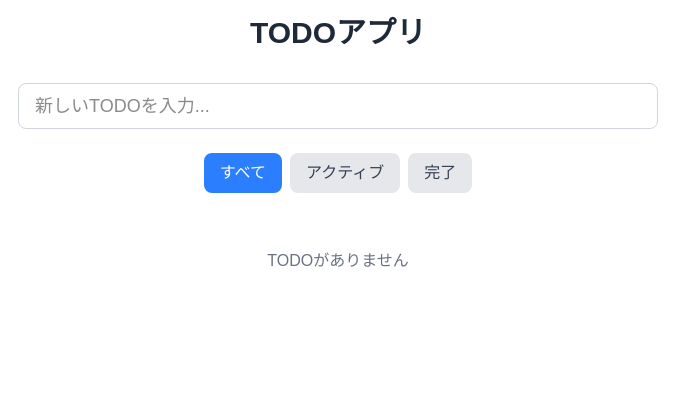
Test case: TodoApp 統合テスト › 基本的な操作フロー › TODOの追加、編集、削除が正しく動作する
Type "最初のタスク" into the field with placeholder "新しいTODOを入力...".
click(338, 106); type("最初のタスク")  # box top-left (18, 83), bottom-right (658, 129)
Then press Enter
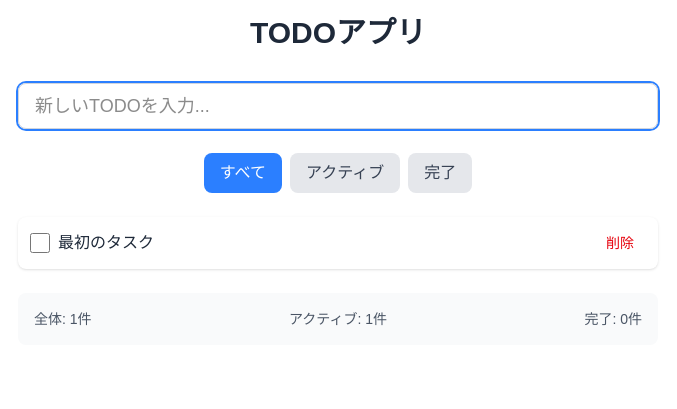
Result: the text "最初のタスク" is shown at top-left (58, 234), bottom-right (154, 251)
Type "2番目のタスク" into the field with placeholder "新しいTODOを入力...".
click(338, 106); type("2番目のタスク")  # box top-left (18, 83), bottom-right (658, 129)
Then press Enter
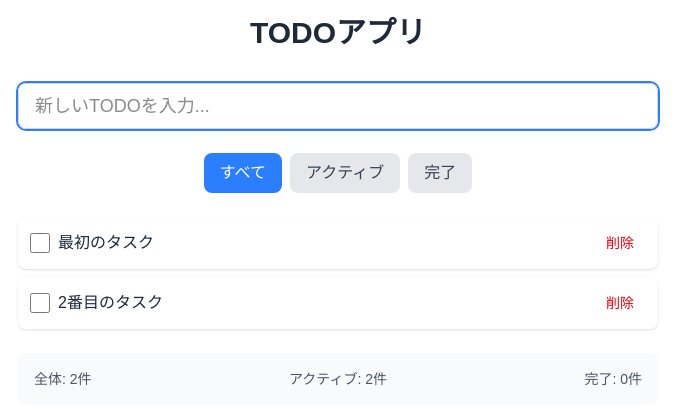
Result: the text "2番目のタスク" is shown at top-left (58, 294), bottom-right (163, 311)
Double-click the text "最初のタスク".
double_click(106, 242)  # box top-left (58, 234), bottom-right (154, 251)
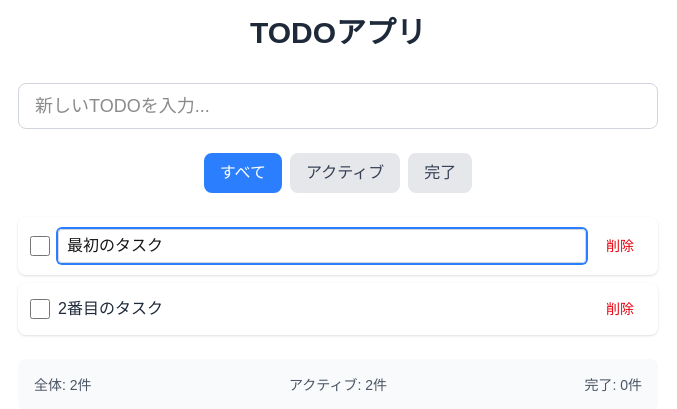
Replace the text in the field showing "最初のタスク" with "編集されたタスク" at (322, 246), box top-left (58, 229), bottom-right (586, 263)
Then press Enter
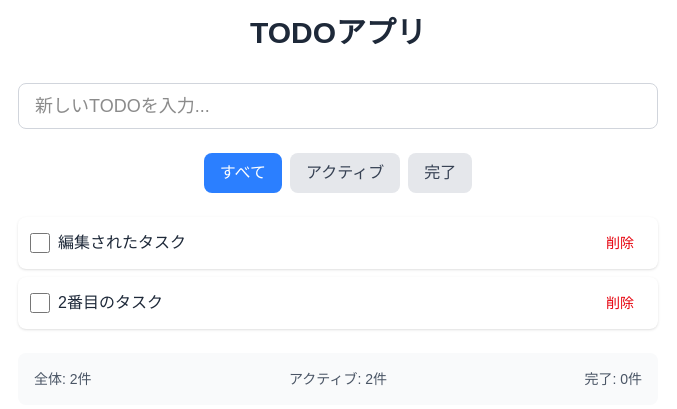
Expected: the text "最初のタスク" is not shown
Result: the text "編集されたタスク" is shown at top-left (58, 234), bottom-right (186, 251)
Click the button "削除" in the row of "編集されたタスク".
click(620, 243)  # box top-left (594, 229), bottom-right (646, 257)
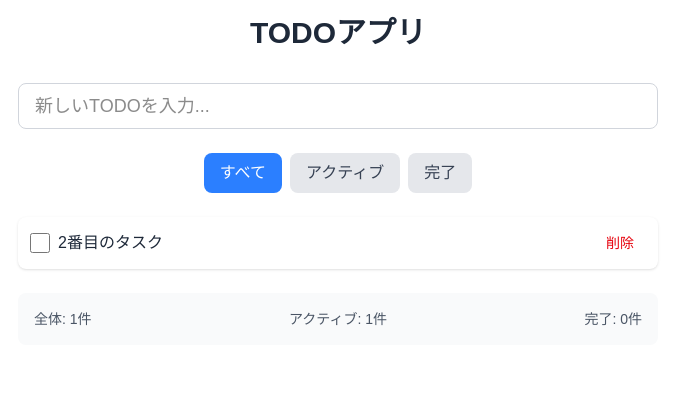
Result: the text "2番目のタスク" is shown at top-left (58, 234), bottom-right (163, 251)
Result: the text "編集されたタスク" is gone
